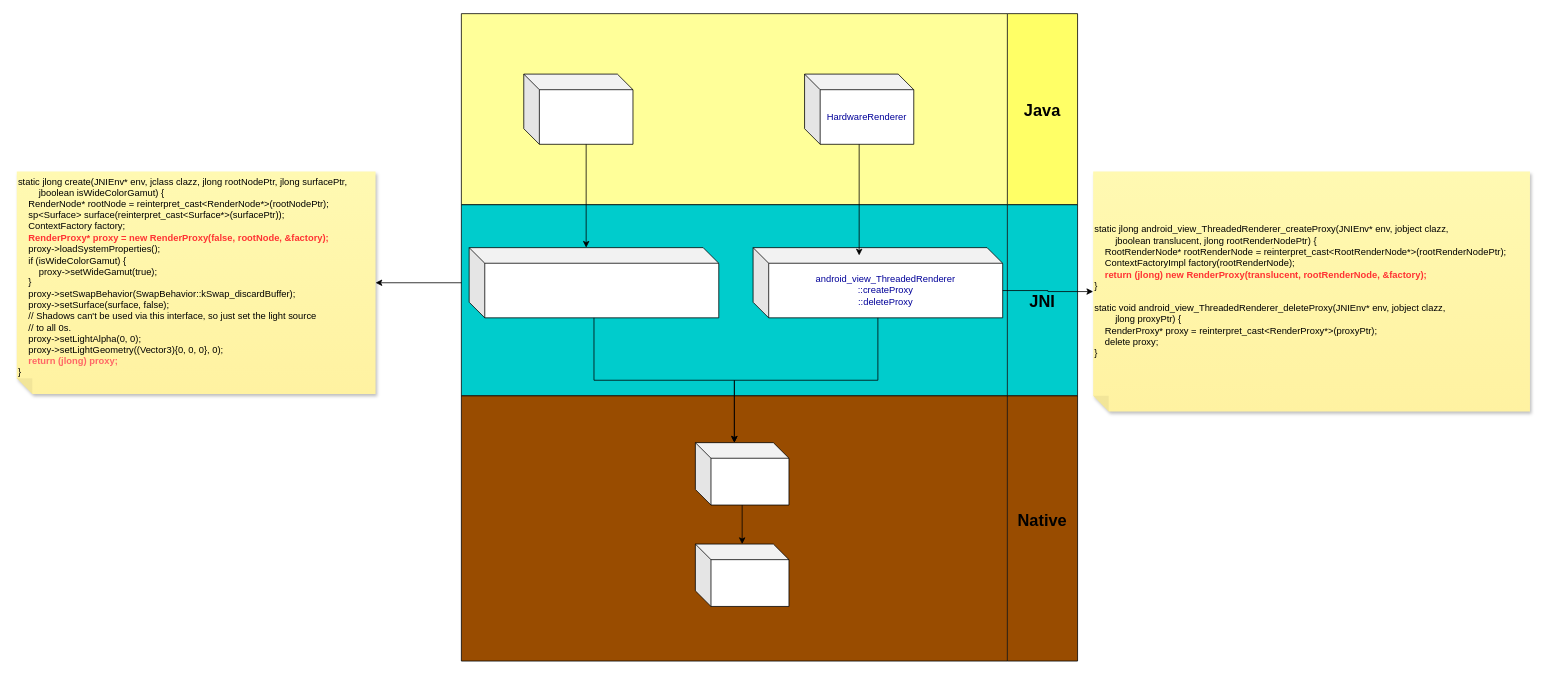
This 1548x675 diagram has some shape labels left out. The shapes that lost their labels are listed below. From the top down, each one's centre as x and y in pixels, then its label:
At [578,108]: "Surface::HwuiContext".
At [593,282]: "android_view_Surface ::hwui::create ::hwui::destroy".
At [742,473]: "RenderProxy".
At [742,574]: "RenderThread".
